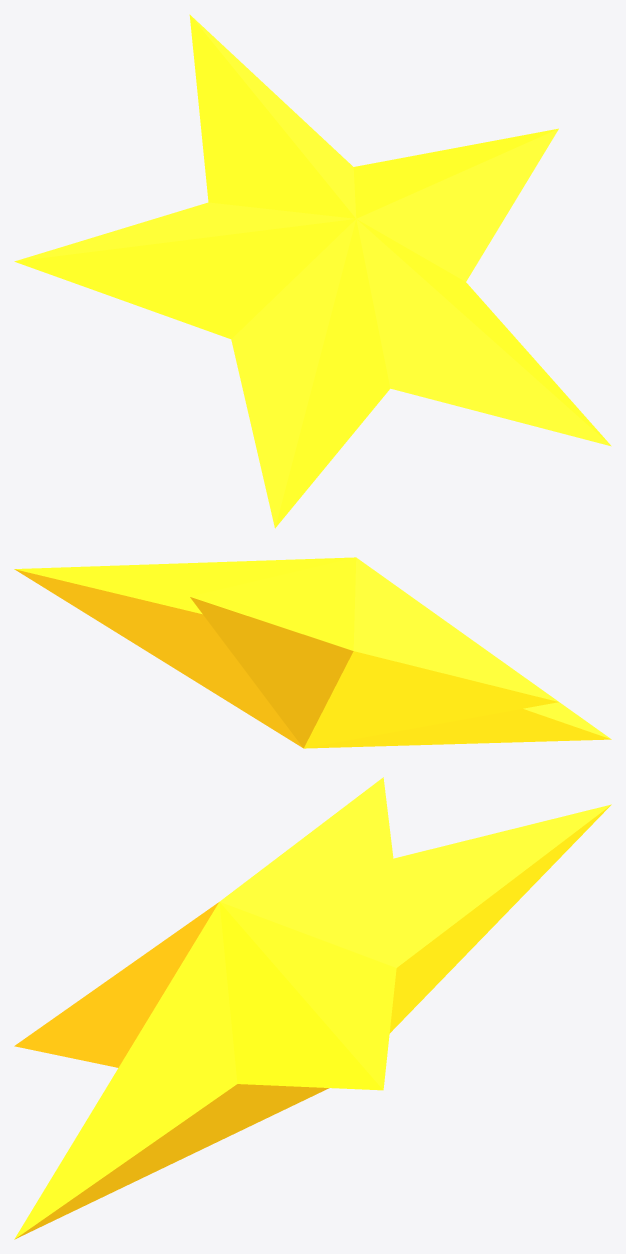
The model's file is energy_crystal_coin.glb.
3 renders of one model, top to bottom at view 1: azimuth 30°, elevation 25°; view 2: azimuth 150°, elevation 25°; view 3: azimuth 270°, elevation 25°, orthographic. The views are drawn at different scales.
Visible parts, largest first — view 1: RootNode; view 2: RootNode; view 3: RootNode.
Part boxes in pixels (<box>): RootNode: <box>14,14,611,528</box>; RootNode: <box>14,557,611,748</box>; RootNode: <box>14,777,611,1239</box>.
Size of the model in its own units: 0.4945 by 0.2492 by 0.3989.
